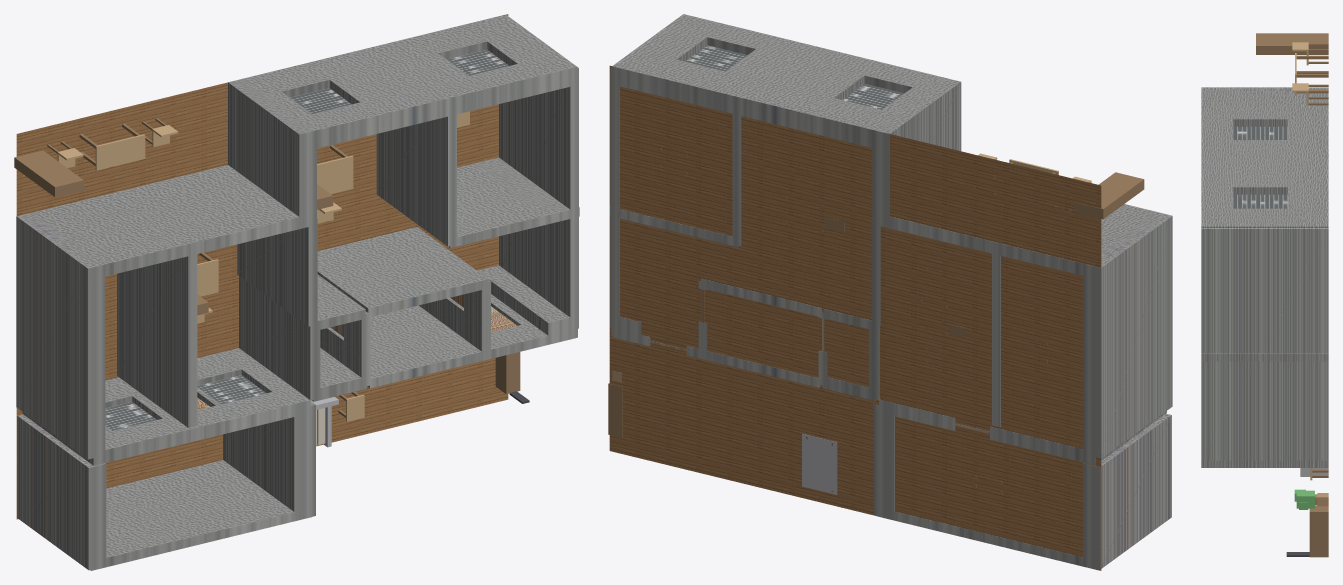
File: 2_interior.gltf
3 renders of one model, left to right at view 1: azimuth 30°, elevation 25°; view 2: azimuth 150°, elevation 25°; view 3: azimuth 270°, elevation 25°, orthographic. The views are drawn at different scales.
Visible parts, largest first — view 1: WallMesh, Floor, WindowMesh, Furniture_7, Furniture_4, Furniture_8, Furniture_2, Furniture_0, Furniture_12; view 2: Floor, WallMesh, Furniture_0, WindowMesh, Furniture_7, Furniture_2; view 3: WallMesh, WindowMesh, Furniture_7, Furniture_2, Furniture_3, Furniture_4, Furniture_6, Furniture_5, Furniture_0.
Part boxes in pixels (x1,y1,x2,y2): WallMesh: (16,14,579,570); Floor: (16,14,508,519); WindowMesh: (105,49,508,430); Furniture_7: (14,150,83,197); Furniture_4: (79,123,145,170); Furniture_8: (317,145,353,193); Furniture_2: (495,352,529,403); Furniture_0: (311,397,338,447); Furniture_12: (197,252,218,296); Floor: (609,65,1101,570); WallMesh: (609,14,1172,570); Furniture_0: (802,433,837,494); WindowMesh: (685,45,903,109); Furniture_7: (1074,172,1144,219); Furniture_2: (608,383,622,437); WallMesh: (1201,87,1328,467); WindowMesh: (1233,126,1287,208); Furniture_7: (1256,33,1328,54); Furniture_2: (1286,505,1328,557); Furniture_3: (1294,489,1328,509); Furniture_4: (1295,53,1328,95); Furniture_6: (1292,83,1328,105); Furniture_5: (1292,42,1328,65); Furniture_0: (1300,468,1328,476).
Bounding box in the file's own units: 11.2 × 8.33 × 2.8.
23 materials, 4 textured.
